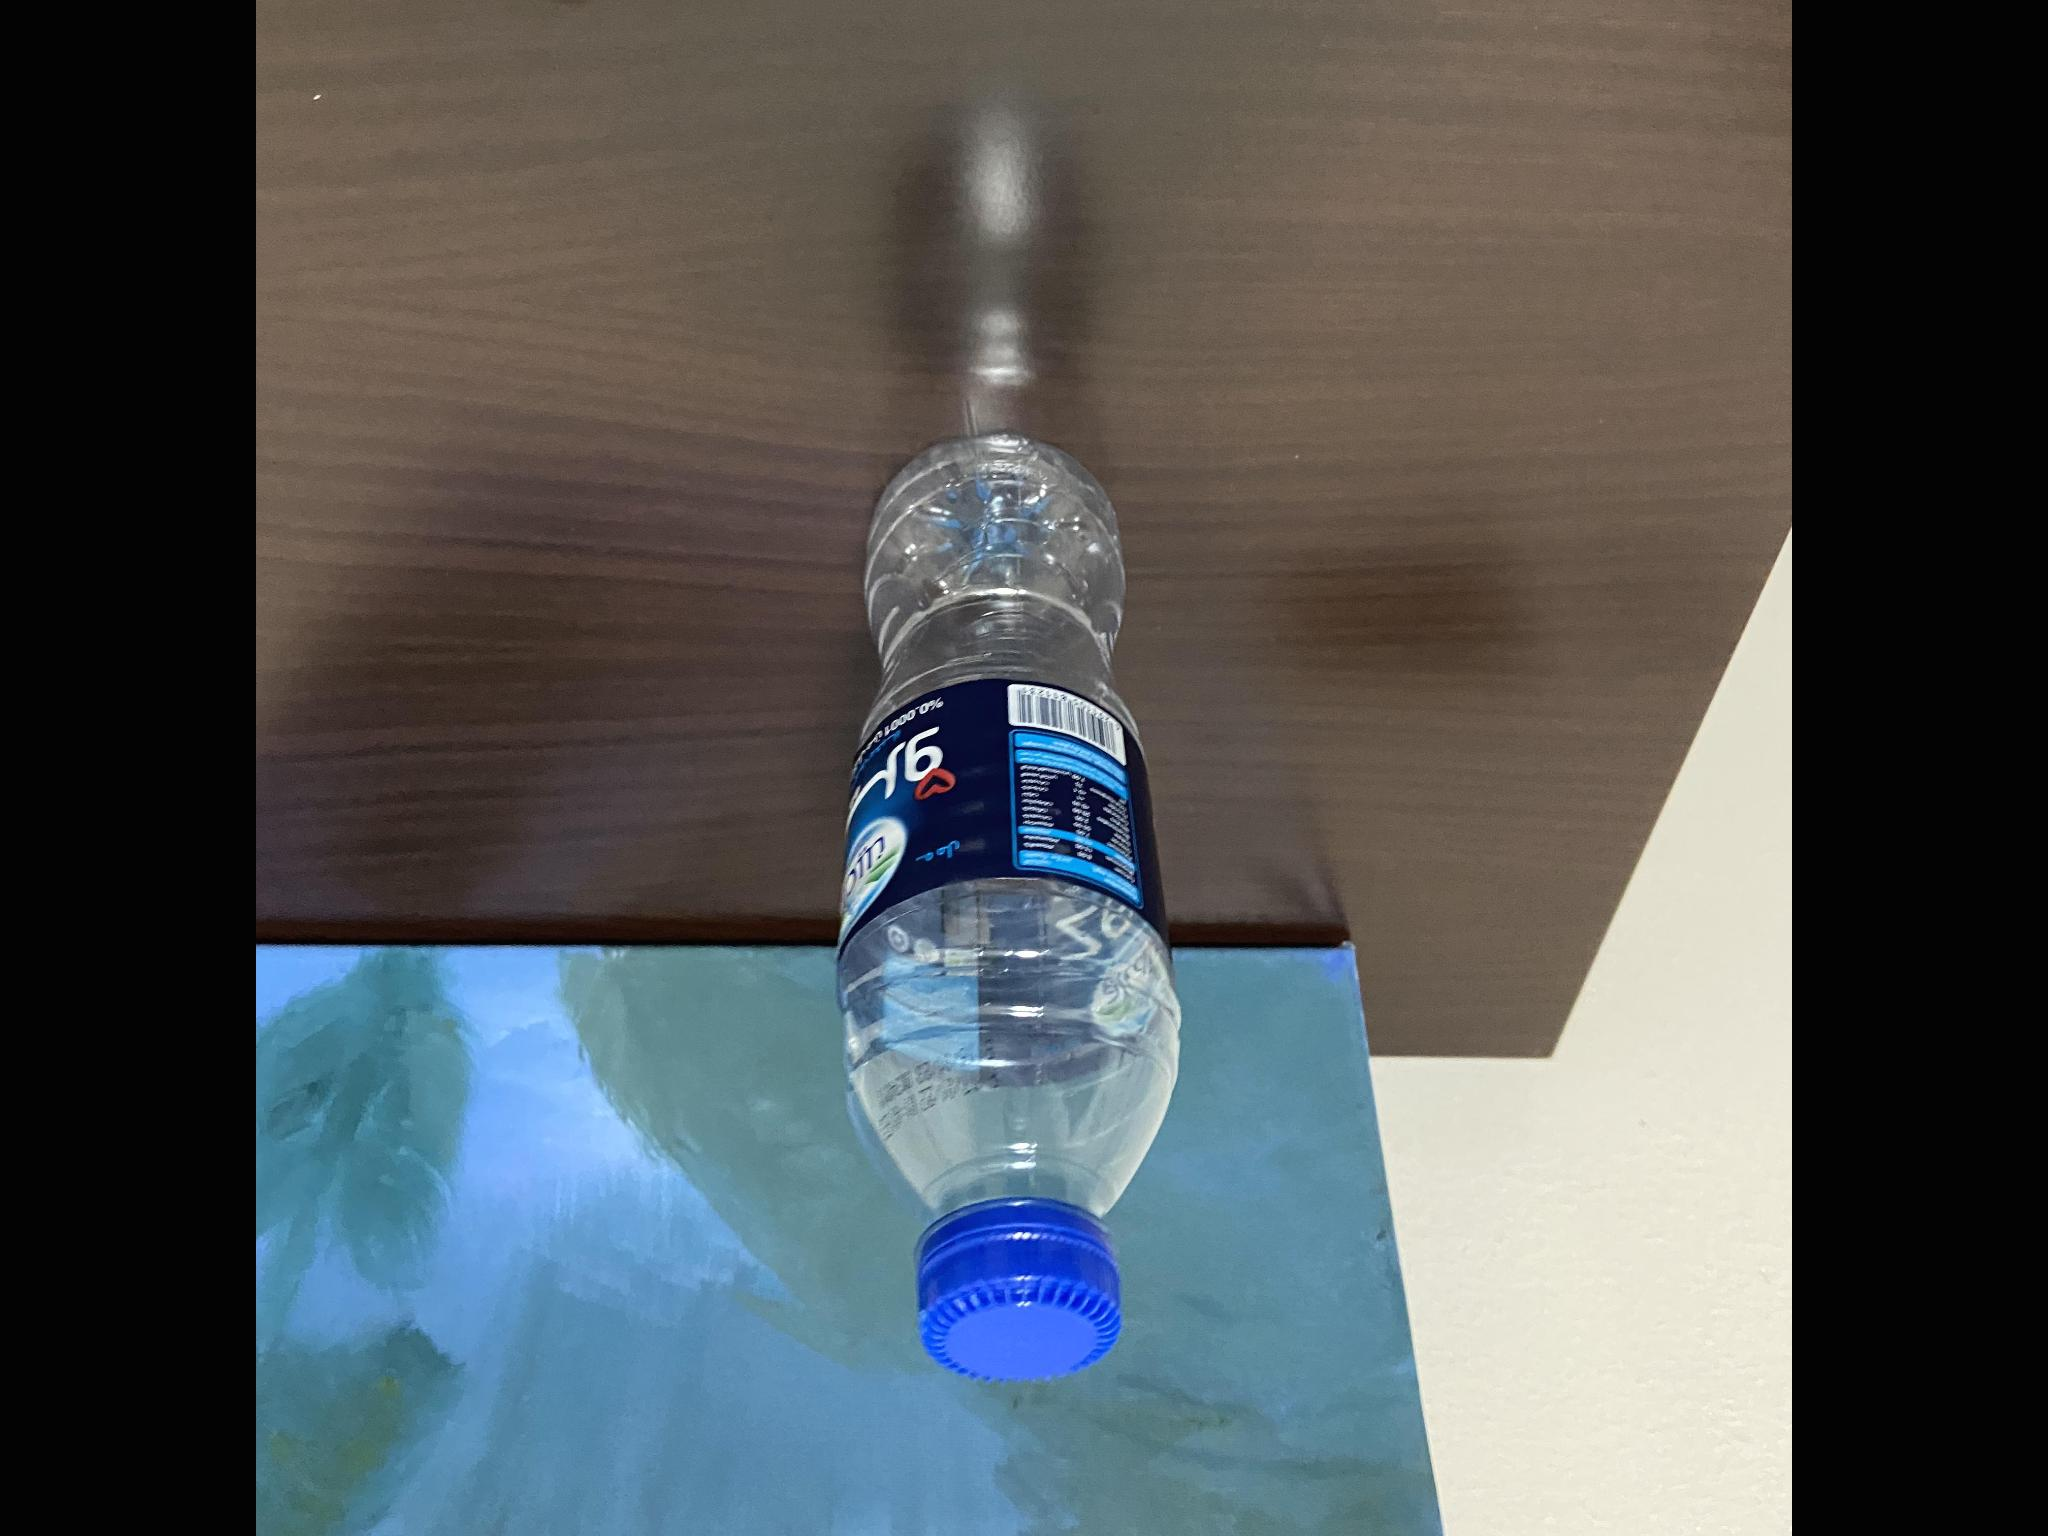bottle: (801, 449, 1188, 1384)
